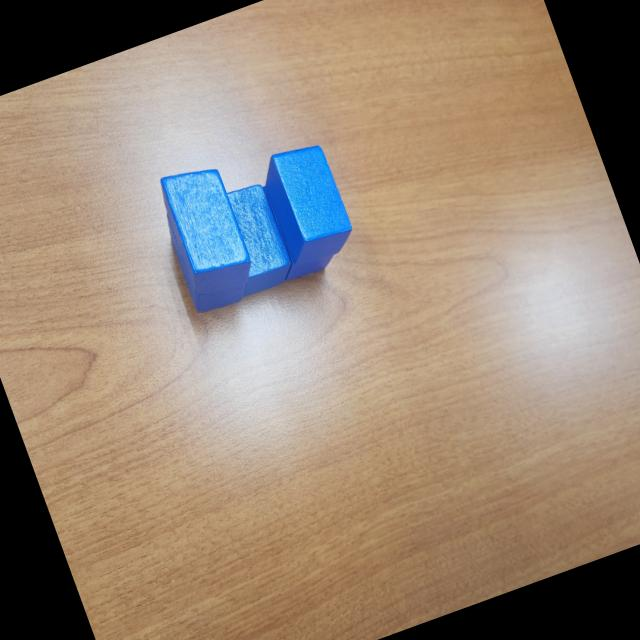blue: (154, 158, 258, 301), (255, 137, 359, 268), (158, 194, 254, 318), (208, 179, 300, 300), (252, 169, 338, 283)
